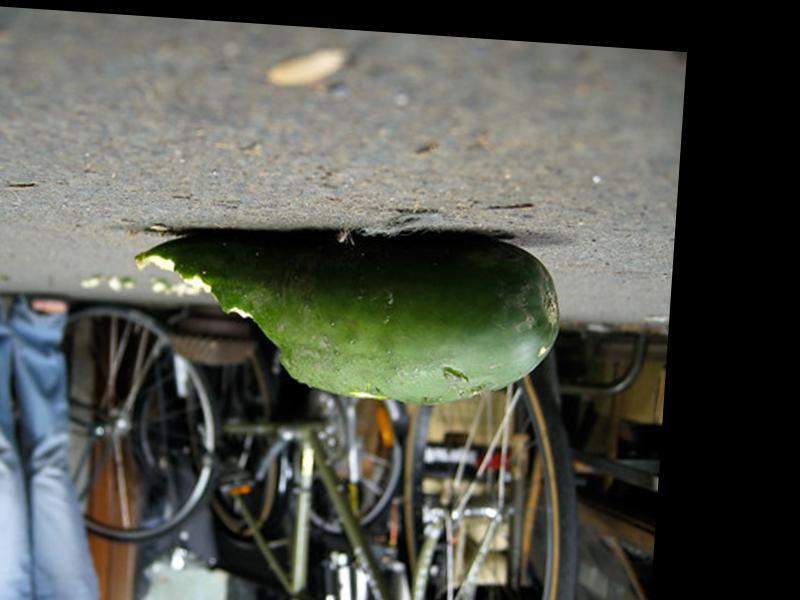Cucumber: (120, 216, 563, 411)
